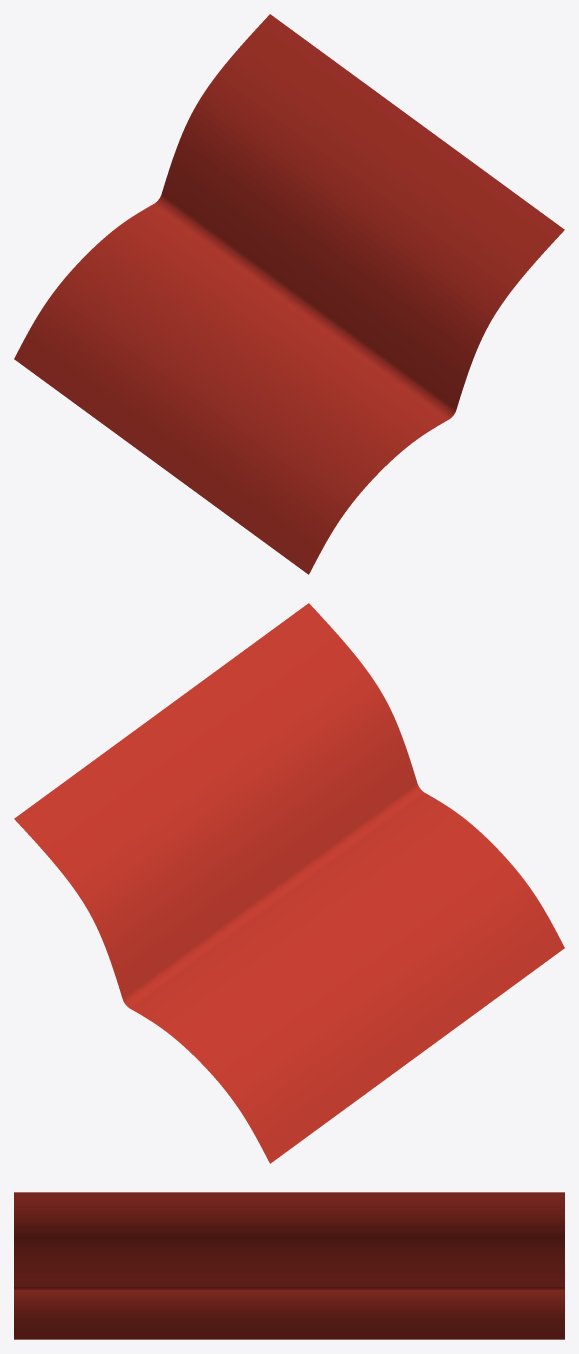
The model's file is CeillingCorner.fbx.
The picture shows the model from 3 angles, top to bottom: view 1: azimuth 30°, elevation 25°; view 2: azimuth 150°, elevation 25°; view 3: azimuth 270°, elevation 25°; orthographic projection. The views are drawn at different scales.
Visible parts, largest first — view 1: CeillingCorner; view 2: CeillingCorner; view 3: CeillingCorner.
Boxes of the visible parts, x1,y1,x2,y2 form: CeillingCorner: [14, 14, 564, 574]; CeillingCorner: [14, 603, 564, 1163]; CeillingCorner: [14, 1192, 564, 1339].
Bounding box in the file's own units: 100 × 106 × 200.
